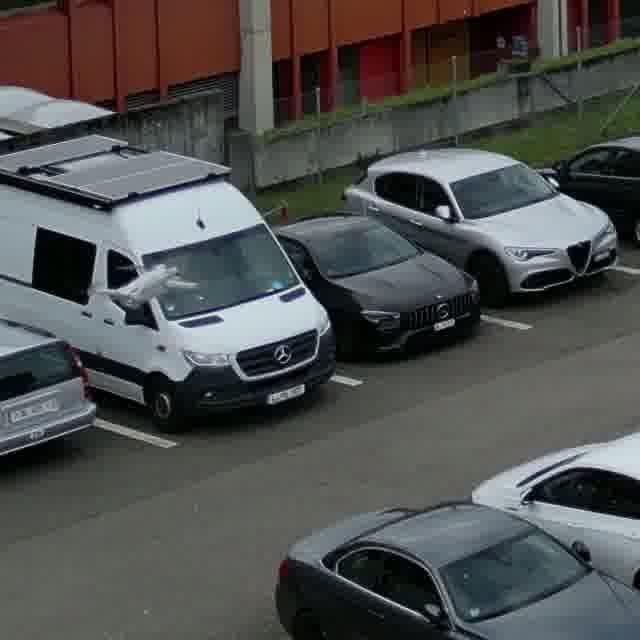Drohne: (90, 264, 197, 308)
